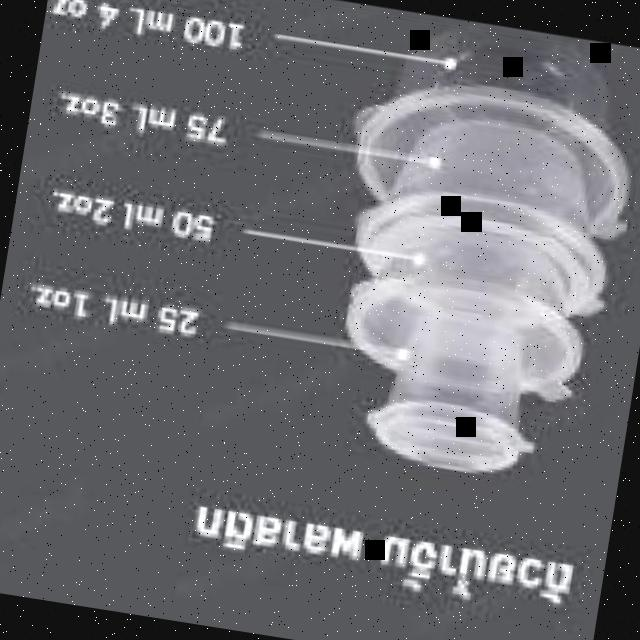plastic_box: (325, 5, 640, 246), (351, 104, 625, 320), (335, 218, 599, 404), (362, 298, 556, 481)
